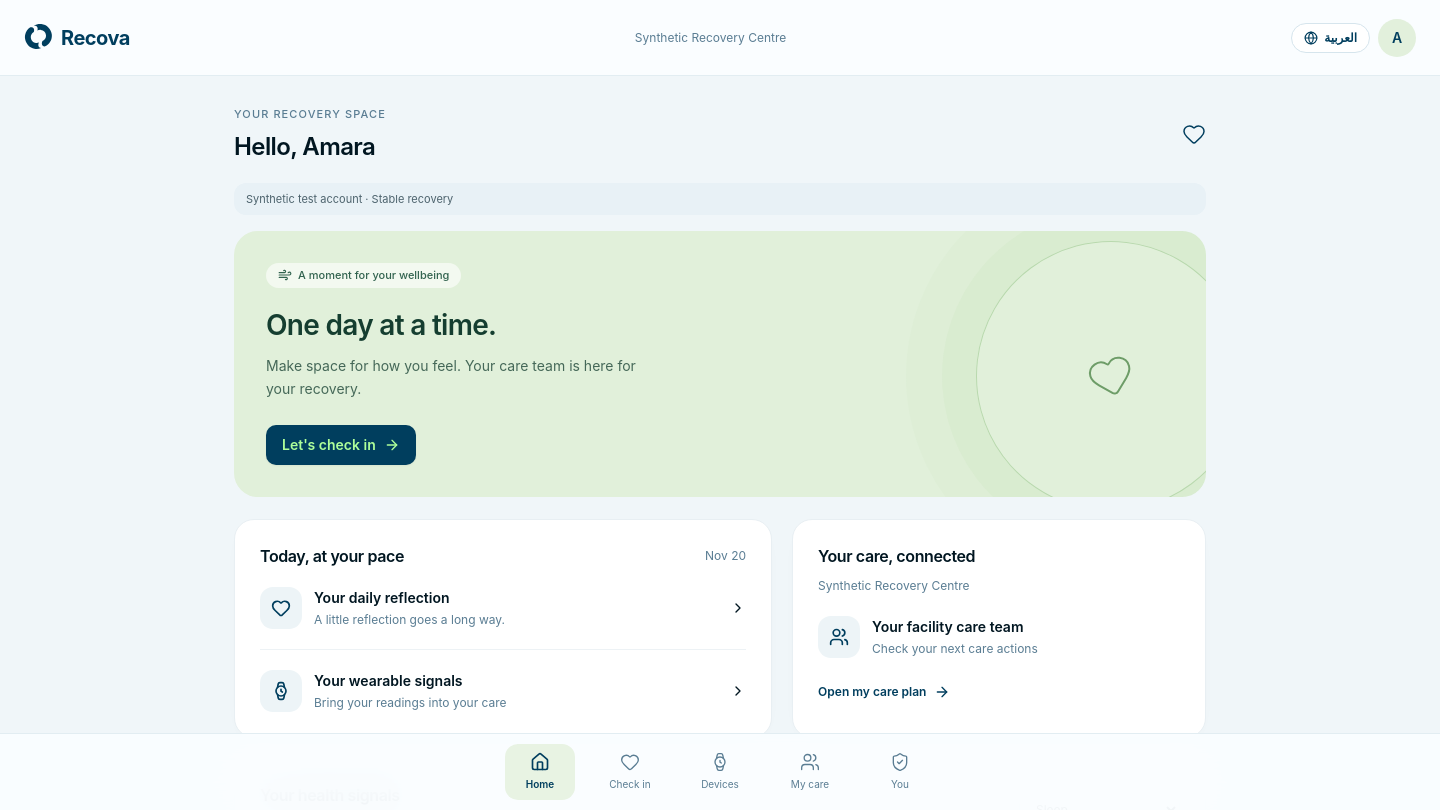
Participant programme journeys › switches to full Arabic UI with dir=rtl across patient journeys and restores English LTR
Expected: the heading "Hello, Amara" is shown, [234,130,386,162]
Switch to Arabic
Click the button with aria-label "Switch portal language to Arabic". click: (1331, 38)
box: [1291,22,1370,52]
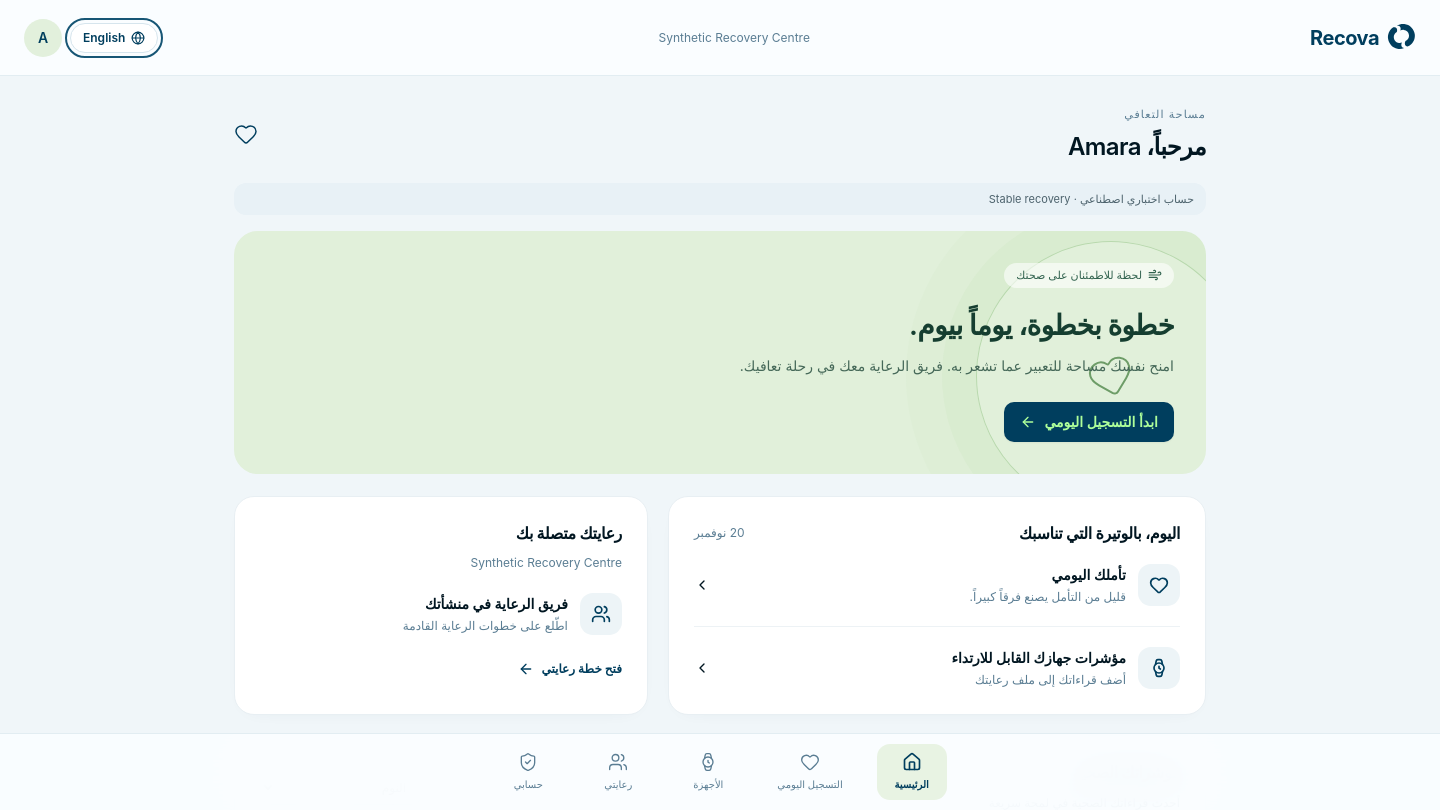
Expected: the heading "مرحباً، Amara" is shown, [1068,130,1206,162]
Expected: the navigation bar named "تنقل المريض" is shown, [0,733,1439,809]
Check-in tab in Arabic
Click the button "التسجيل اليومي". click: (810, 772)
box: [763,744,857,800]
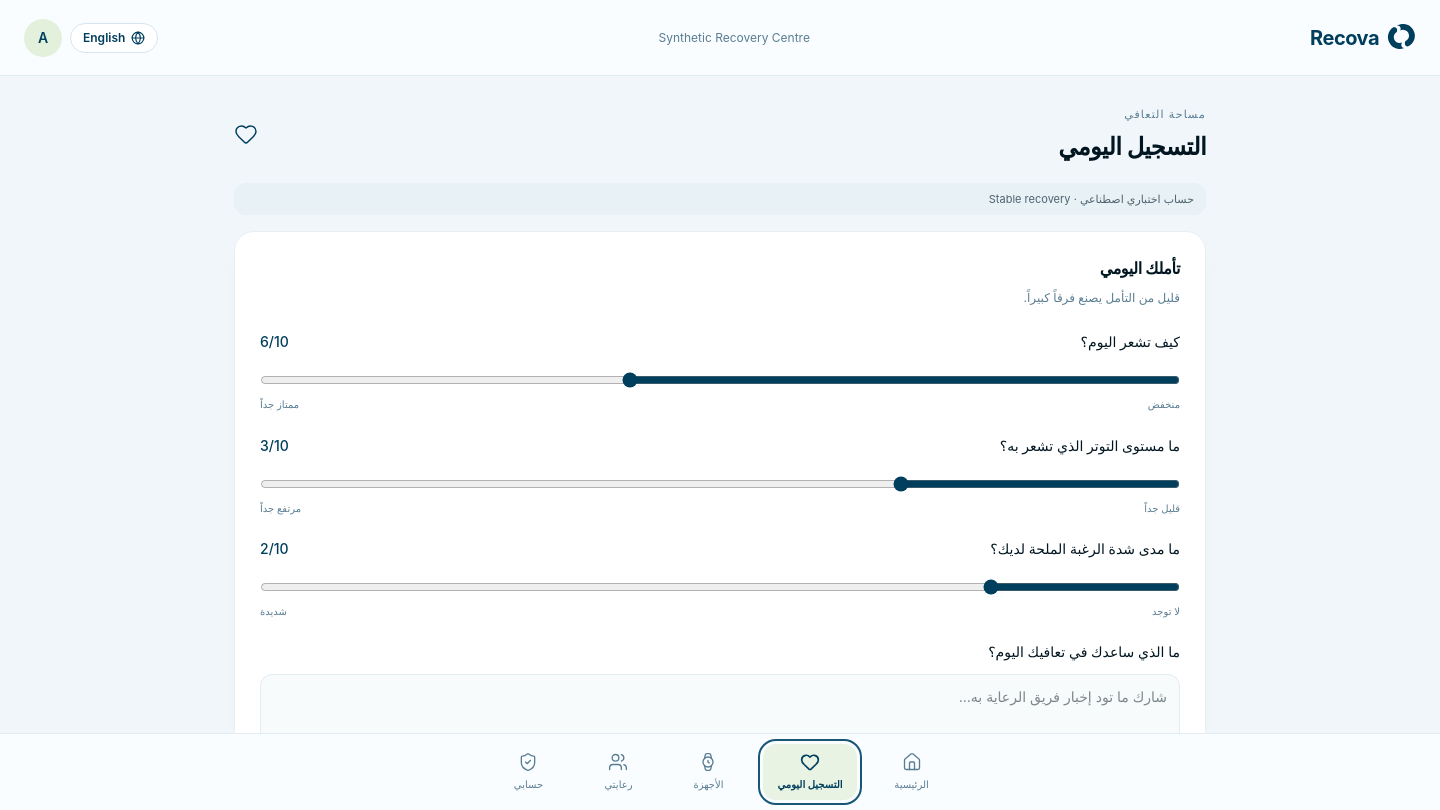
Expected: the heading "تأملك اليومي" is shown, [1100,258,1180,278]
Care tab in Arabic shows RTL clinical summary cleanly
Click the button "رعايتي". click: (618, 772)
box: [584,744,654,800]
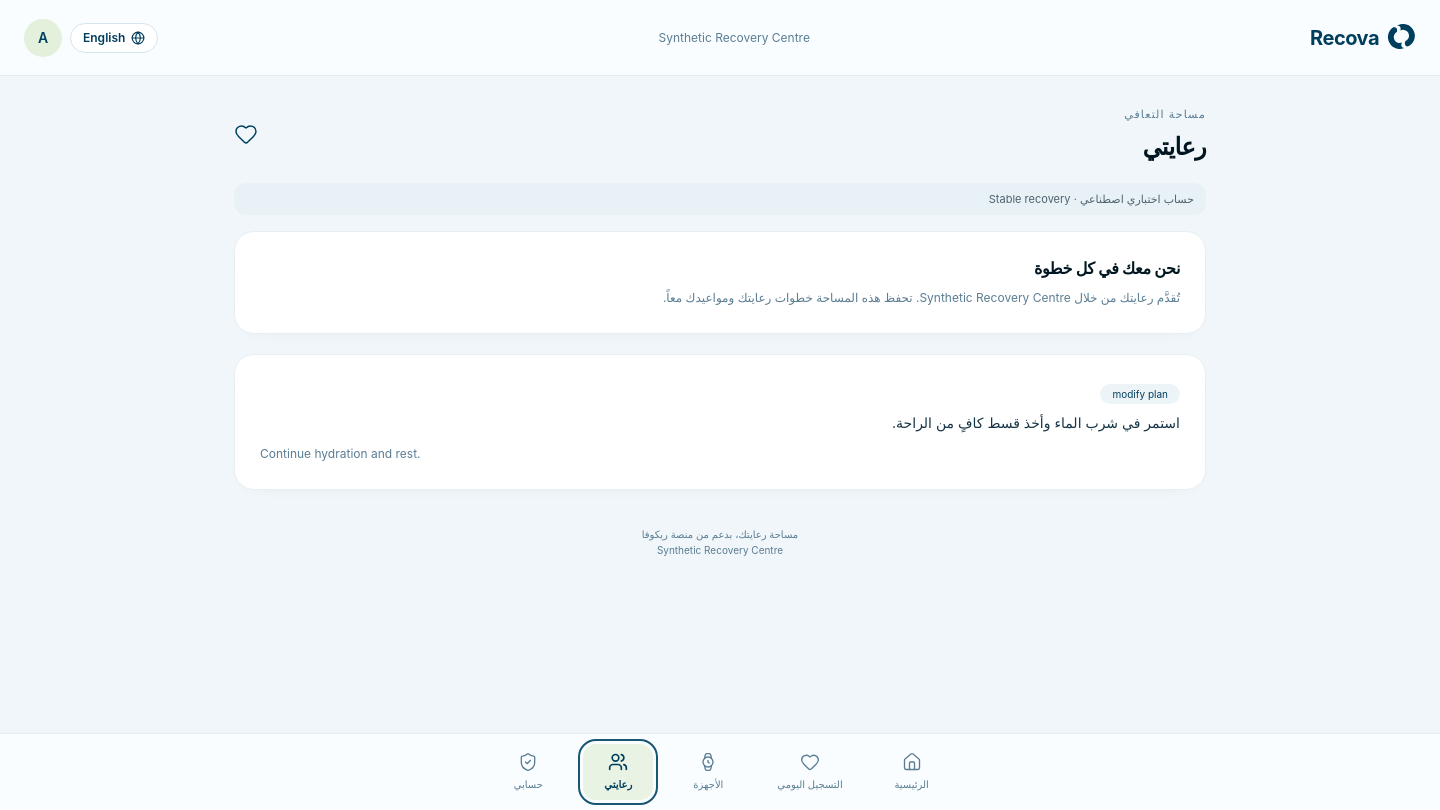
Profile tab shows Arabic consents + Arabic Account Security section
Click the button "حسابي". click: (528, 772)
box: [493,744,563,800]
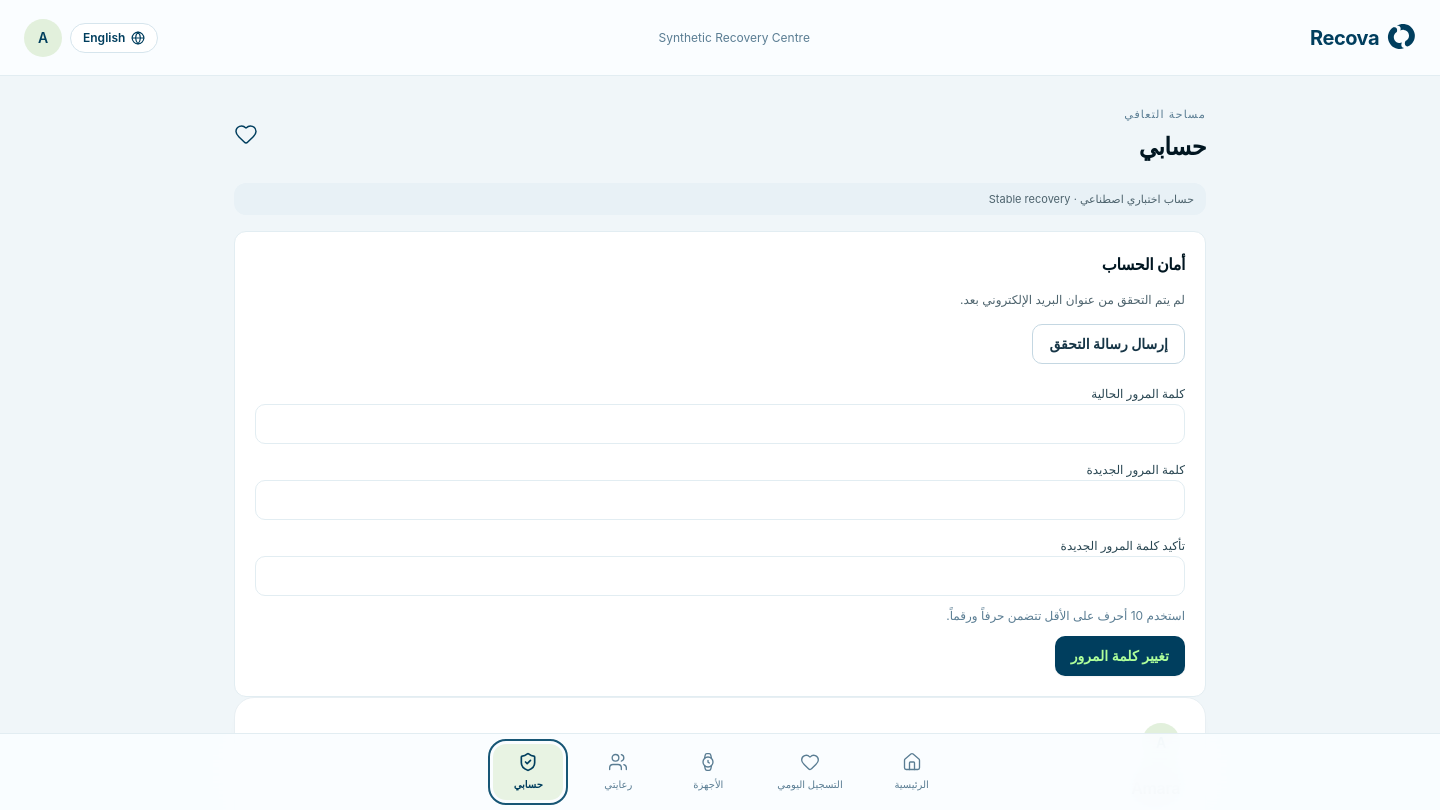
Expected: the heading "أمان الحساب" is shown, [1102,254,1185,274]
Restore English LTR
Click the button with aria-label "التبديل إلى اللغة الإنجليزية". click: (114, 38)
box: [70,22,158,52]
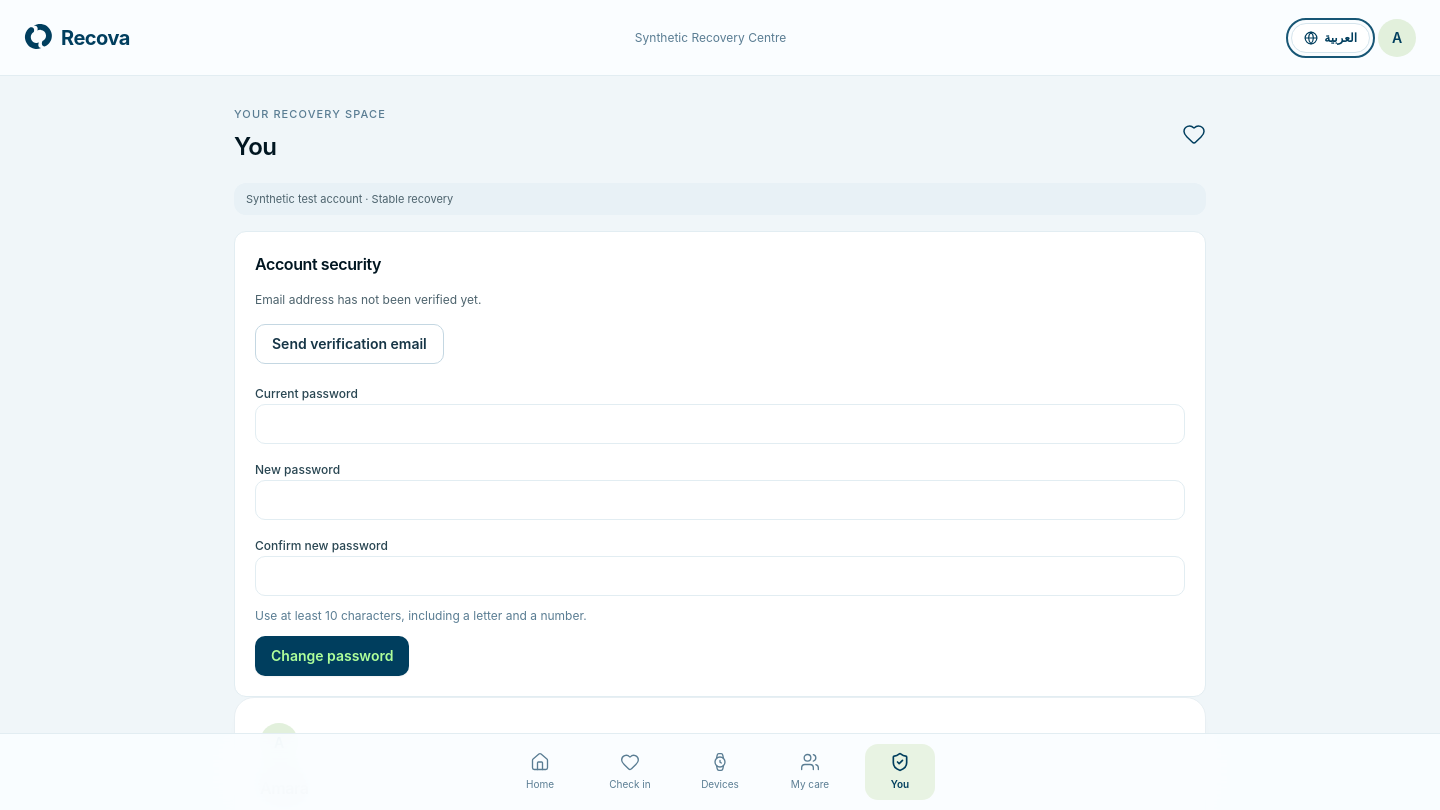
Expected: the heading "Account security" is shown, [255,254,381,274]
